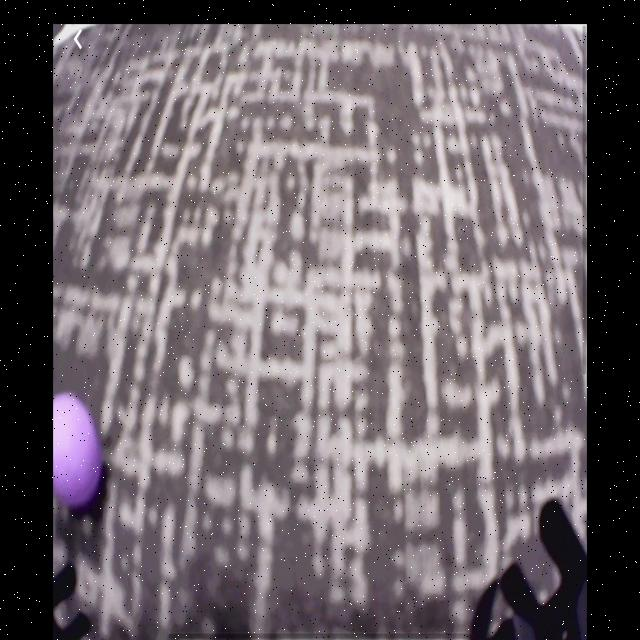ball: (55, 393, 103, 513)
